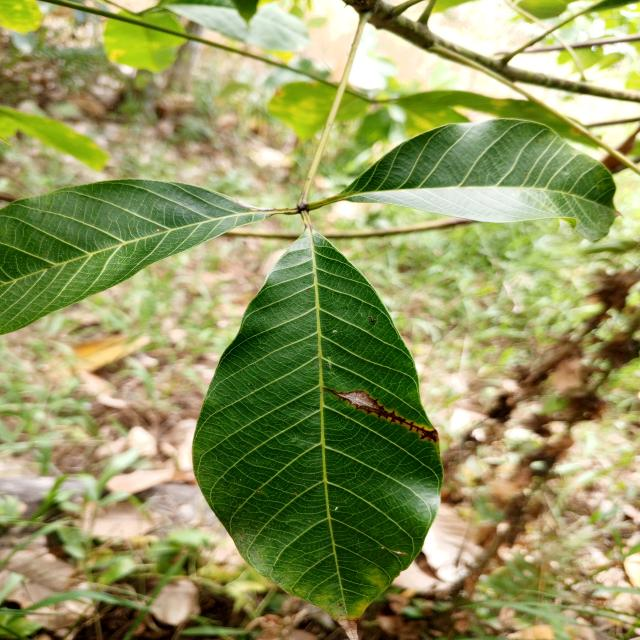Corynespora: (325, 387, 437, 443)
Leaf-Blight: (338, 619, 358, 640)
